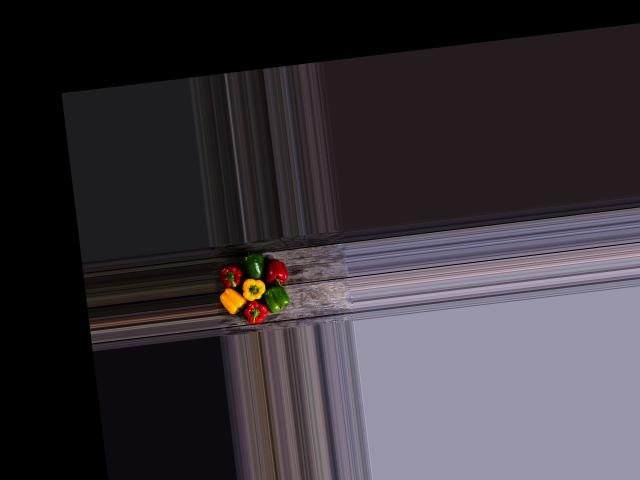bell_pepper: (213, 263, 244, 294)
